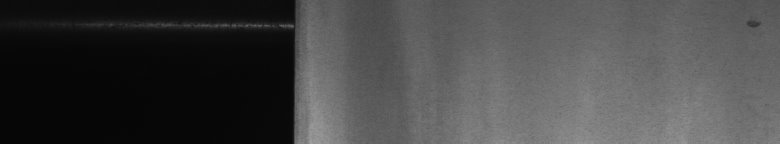fi: (744, 12, 763, 36)
